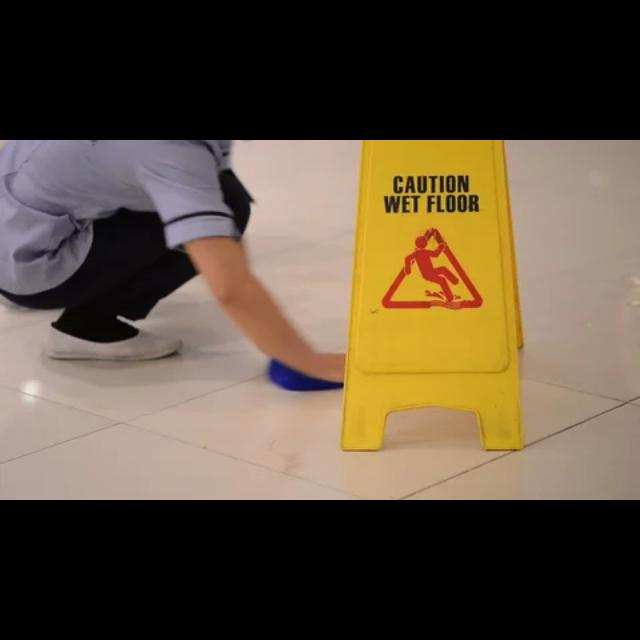tron truot: (341, 140, 521, 449)
